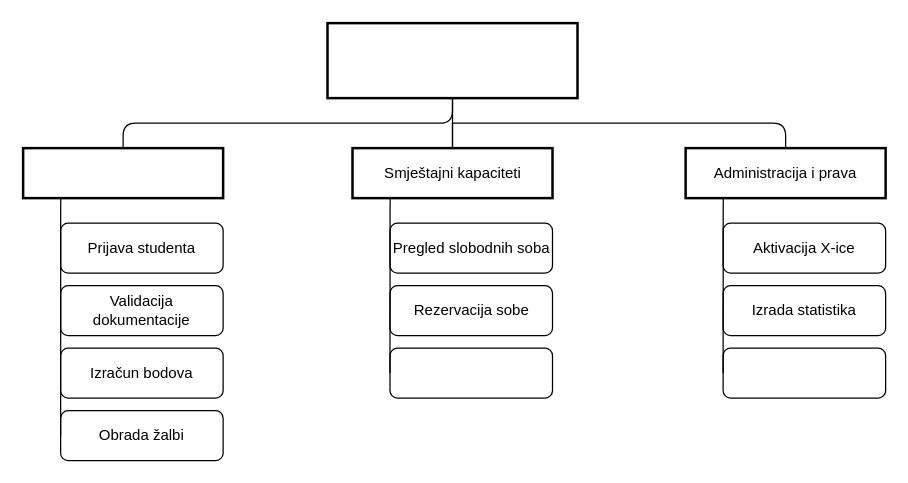
The diagram is 908 pixels wide and 483 high, and some of its shapes have lost their labels. Each missing label, with the centre of its shape:
"Arhiviranje podataka" goes at pixel 804 372.
"Dodjela ključeva" goes at pixel 470 372.
"Informacijski sustav za smještaj studenata „Studentski centar“" goes at pixel 452 60.
"Upravljanje natječajem" goes at pixel 122 172.
